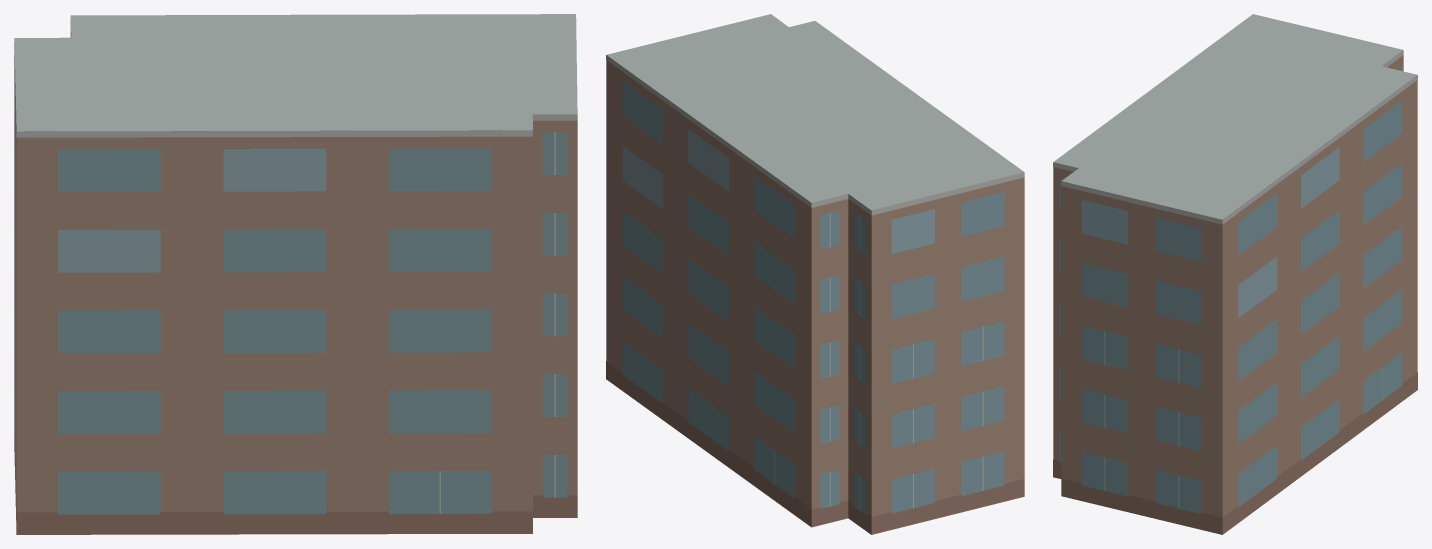
Rendered from survey-upis-32999158.glb.
3 renders of one model, left to right at view 1: azimuth 30°, elevation 25°; view 2: azimuth 150°, elevation 25°; view 3: azimuth 270°, elevation 25°, orthographic. The views are drawn at different scales.
Parts seen in each view (by area): view 1: survey-upis-32999158.tmp; view 2: survey-upis-32999158.tmp; view 3: survey-upis-32999158.tmp.
Part boxes in pixels (x1,y1,x2,y2): survey-upis-32999158.tmp: (14,14,577,534); survey-upis-32999158.tmp: (606,14,1024,534); survey-upis-32999158.tmp: (1053,14,1417,534).
Size of the model in its own units: 21.9 by 15.63 by 16.4.
